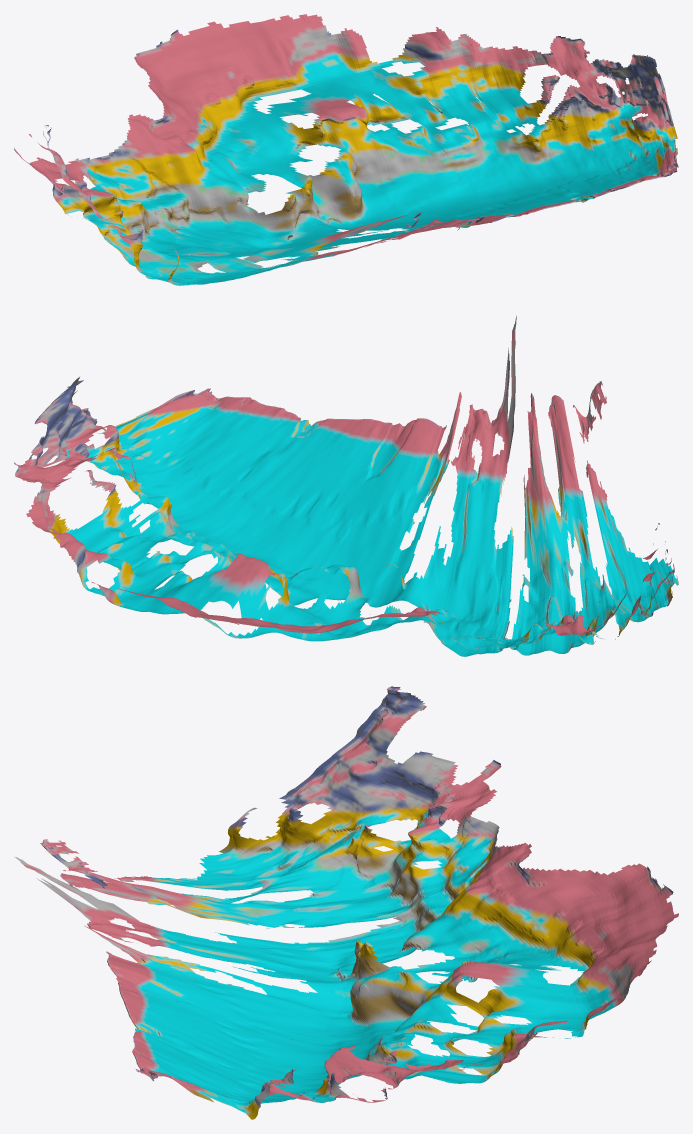
Rendered from segmented.glb.
The picture shows the model from 3 angles, top to bottom: view 1: azimuth 30°, elevation 25°; view 2: azimuth 150°, elevation 25°; view 3: azimuth 270°, elevation 25°; orthographic projection. The views are drawn at different scales.
Visible parts, largest first — view 1: geometry_0; view 2: geometry_0; view 3: geometry_0.
Part boxes in pixels (x1,y1,x2,y2): geometry_0: (14,14,678,285); geometry_0: (14,315,678,656); geometry_0: (14,686,678,1119).
Size of the model in its own units: 33.86 by 8.63 by 29.85.
